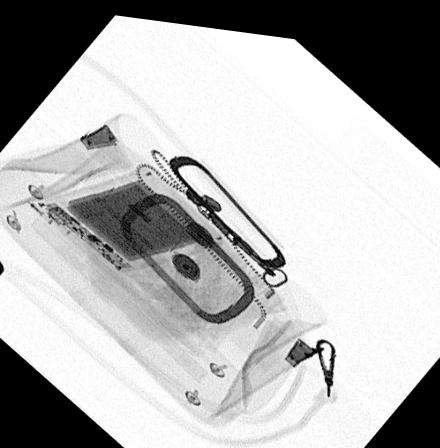Powerbank: (31, 161, 228, 270)
